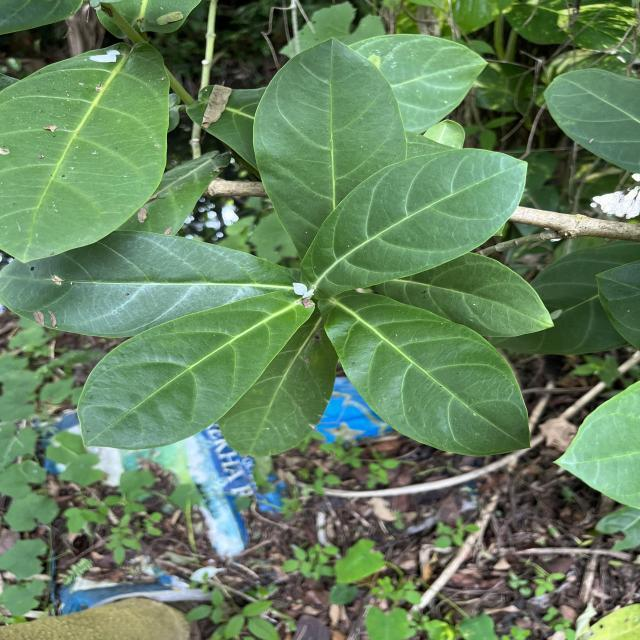Calotropis gigantea: (76, 288, 316, 452), (1, 38, 169, 264), (317, 288, 533, 458), (296, 148, 530, 301), (250, 35, 410, 258), (0, 230, 295, 340), (218, 326, 338, 458)
